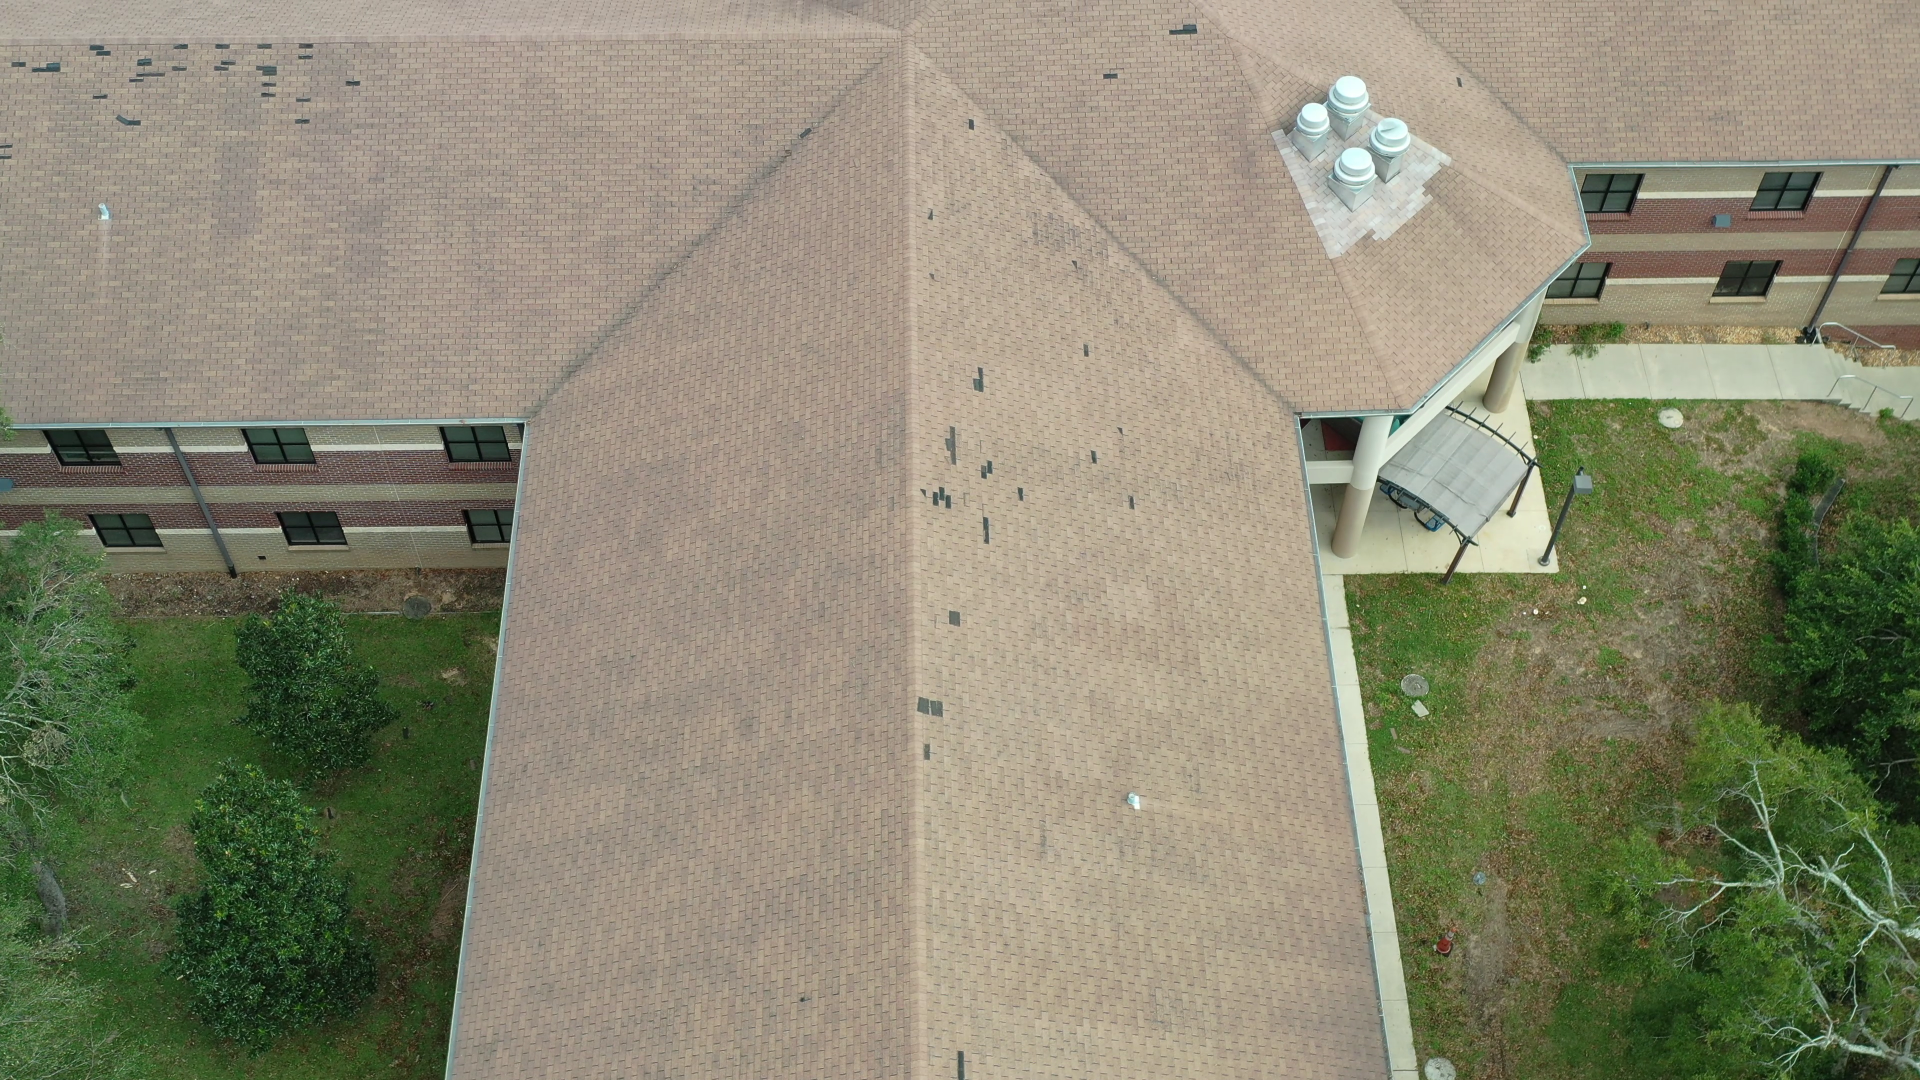Light: (11, 44, 363, 127), (916, 425, 1025, 546), (1091, 427, 1135, 512), (914, 696, 945, 762), (1167, 22, 1197, 36), (972, 367, 985, 393), (956, 1050, 967, 1080), (947, 609, 963, 629), (1081, 340, 1091, 359), (1102, 73, 1120, 80), (967, 117, 976, 131)
